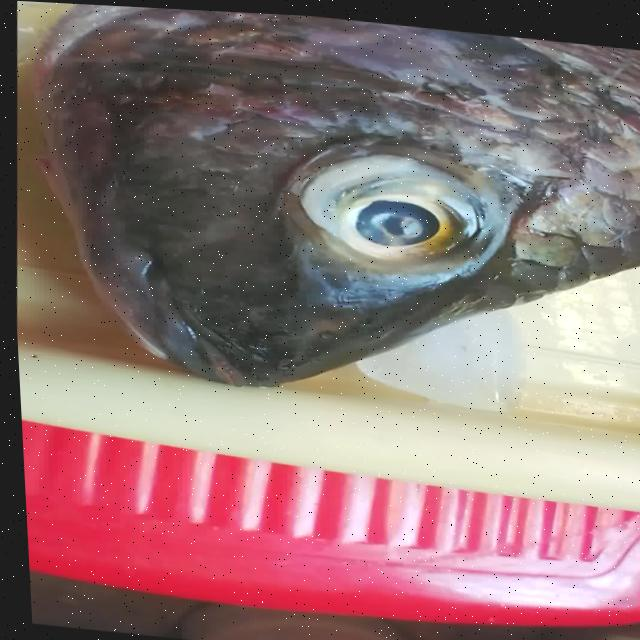Fresh: (253, 131, 524, 288)
